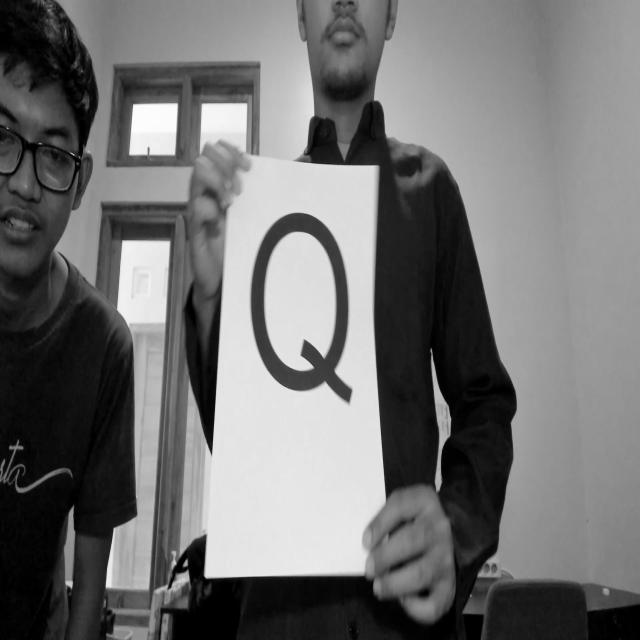q: (234, 192, 382, 448)
